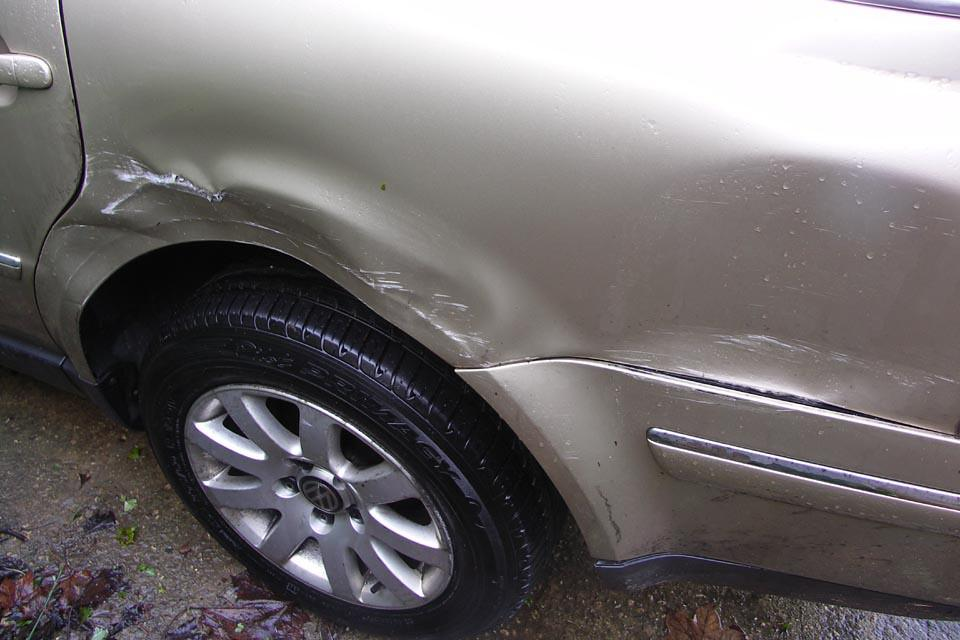quaterpanel-dent: (82, 9, 589, 250)
